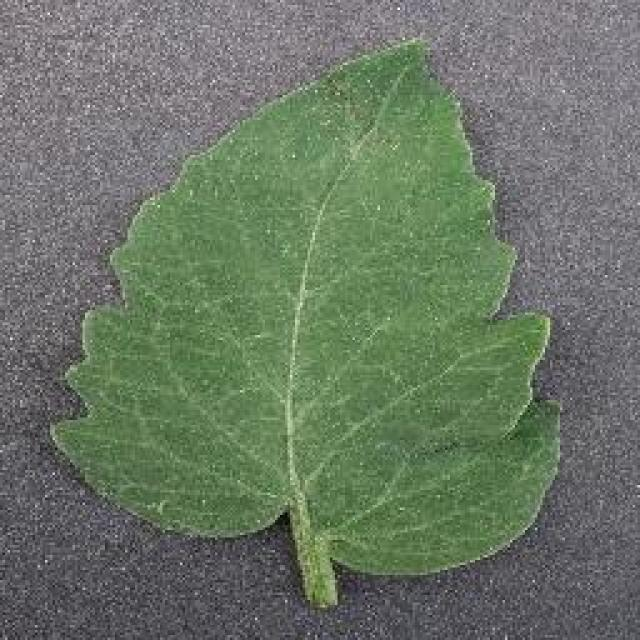Healthy: (37, 28, 575, 622)
